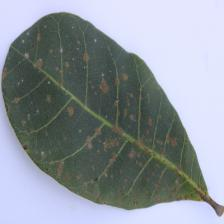red rust: (0, 11, 223, 216)
